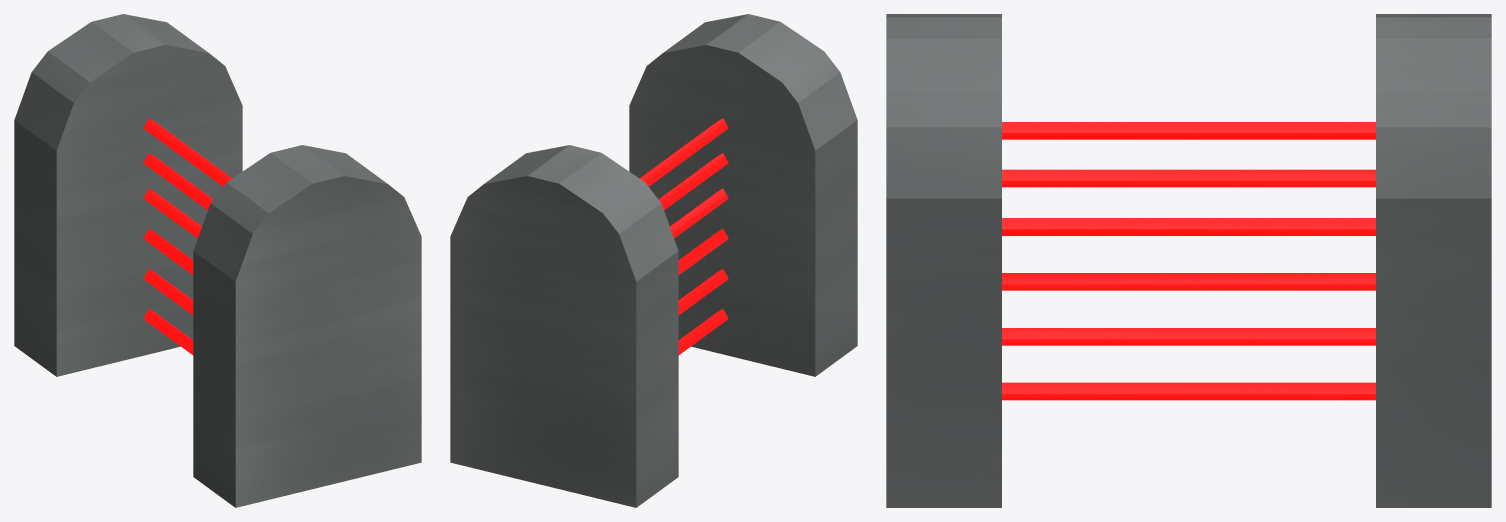
File: Laser.fbx
The picture shows the model from 3 angles, left to right: view 1: azimuth 30°, elevation 25°; view 2: azimuth 150°, elevation 25°; view 3: azimuth 270°, elevation 25°; orthographic projection. The views are drawn at different scales.
Visible parts, largest first — view 1: Laser; view 2: Laser; view 3: Laser.
Part boxes in pixels (left/top/right/bottom): Laser: left=14, top=14, right=421, bottom=507; Laser: left=450, top=14, right=857, bottom=507; Laser: left=886, top=14, right=1491, bottom=507.
Size of the model in its own units: 69.44 by 109 by 143.
